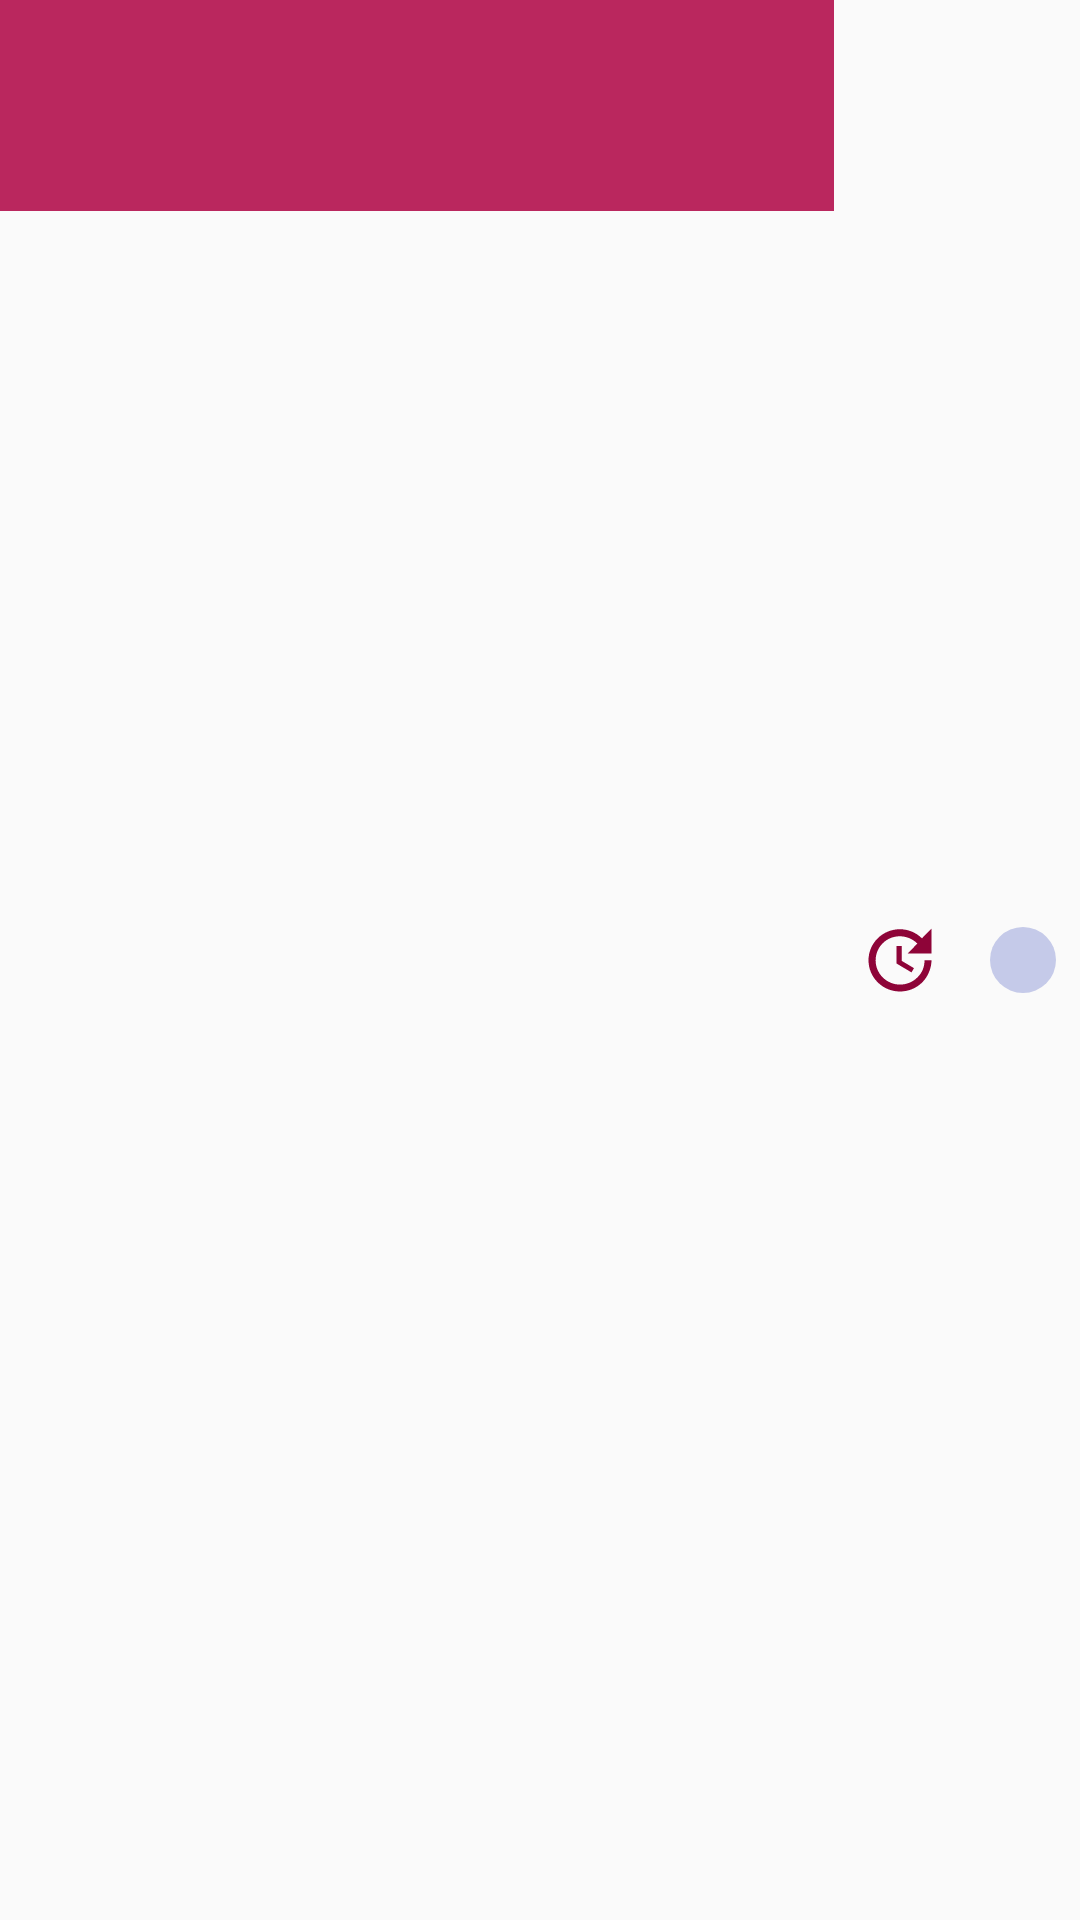

Icons on this 1080*1920 Android screen, each with its box as (x1, y1, x2, y2):
update: (868, 929, 932, 992)
